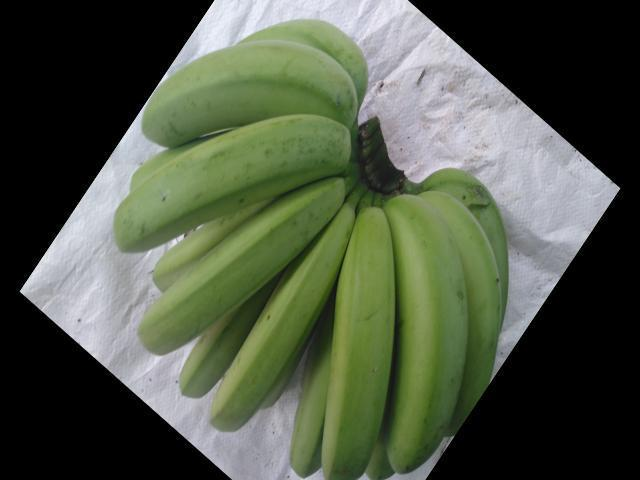unripe: (86, 117, 358, 261), (125, 177, 291, 357), (138, 38, 378, 151), (210, 231, 343, 429), (380, 185, 468, 479), (320, 203, 401, 479), (449, 178, 513, 387), (245, 6, 383, 67)
